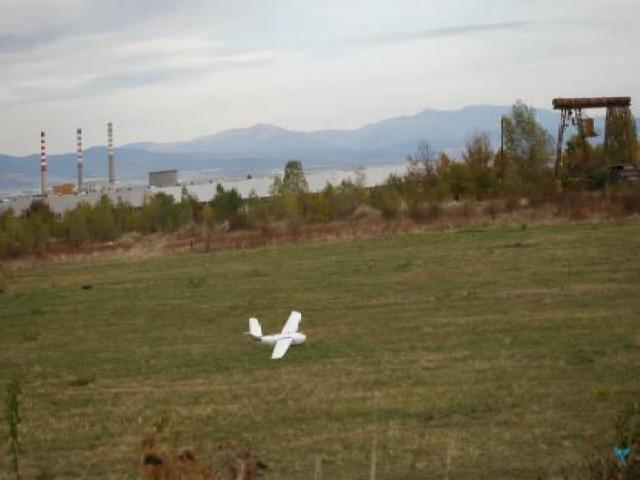uav: (238, 298, 312, 364)
